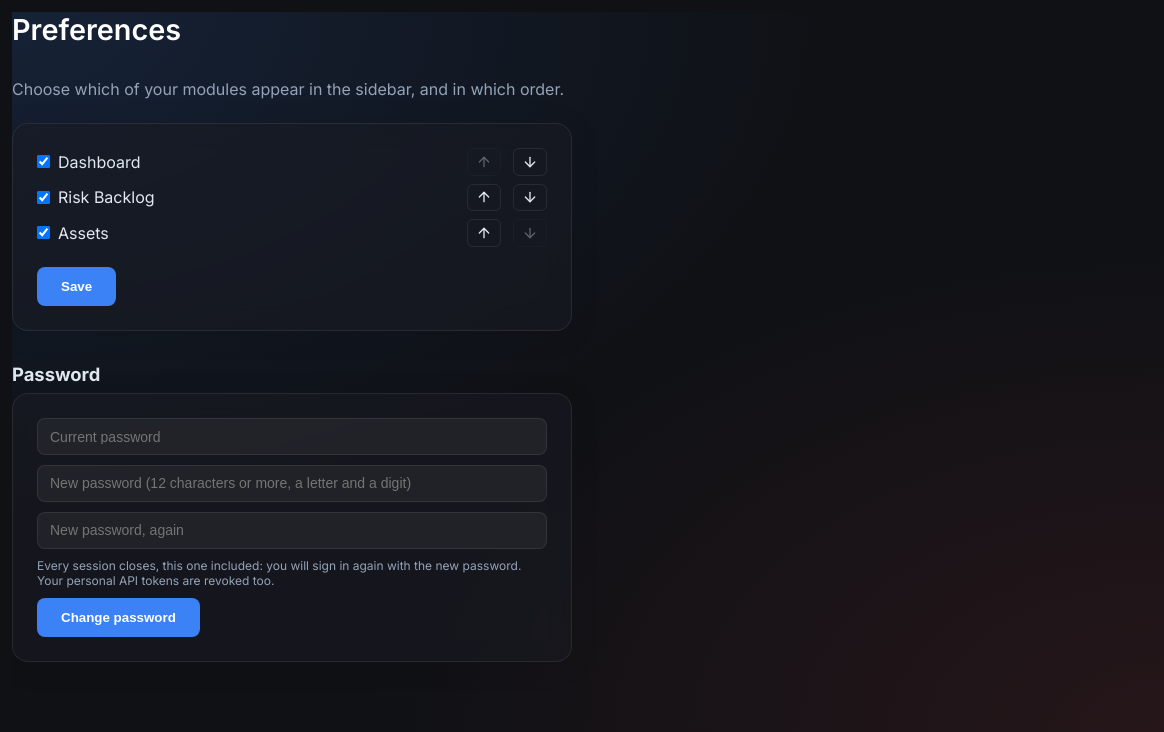
Preferences › saves the new order and the hidden modules
What coordinates should you click on to do the following:
click the button named "Move Risk Backlog up"
I would click on:
 (484, 197)
Its box is 467,184 -> 501,211.
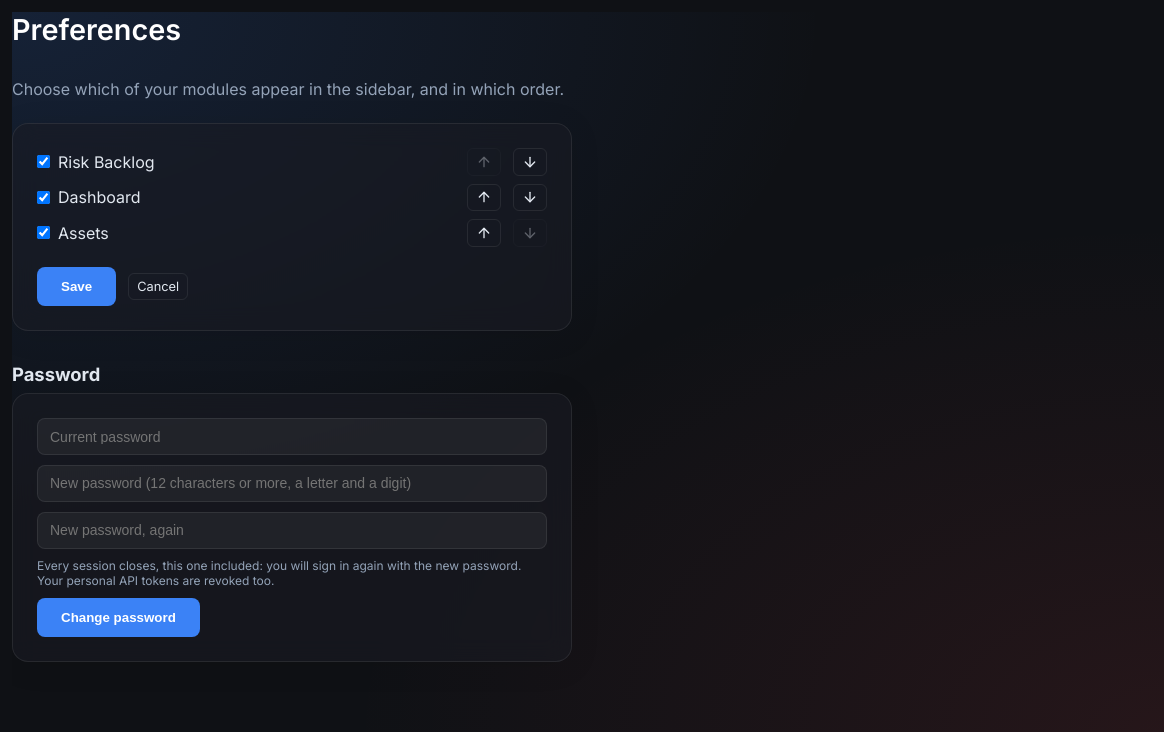
What coordinates should you click on to do the following:
click the checkbox named "Show Assets in the sidebar"
I would click on:
 (44, 233)
Its box is 37,226 -> 50,240.
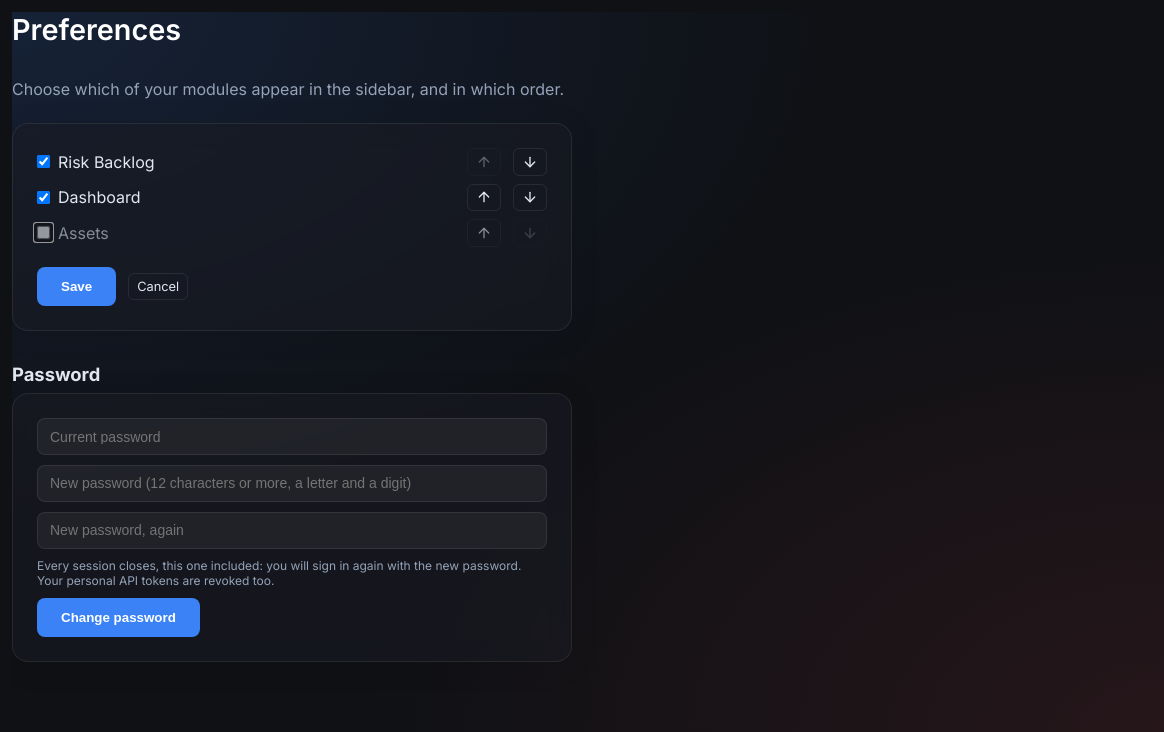
What coordinates should you click on to do the following:
click the button "Save"
I would click on:
 (77, 286)
Its box is 37,267 -> 116,306.
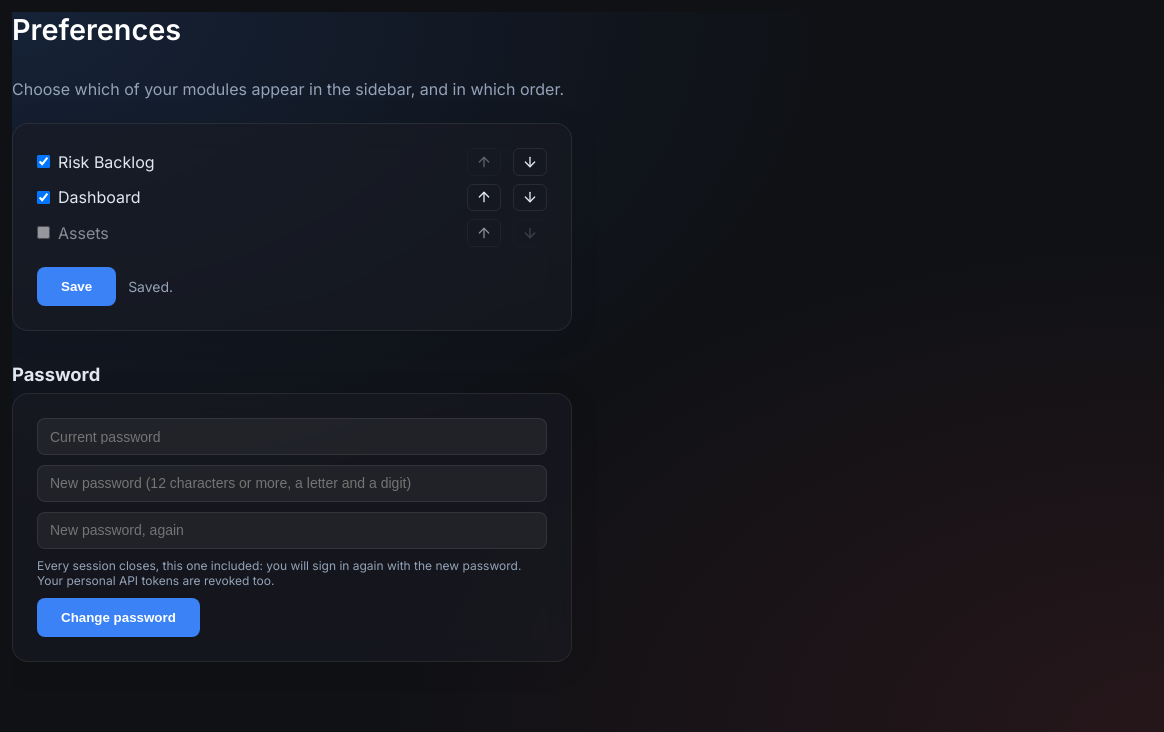
Check: the text "Saved." is shown, box 128,278 -> 173,295
